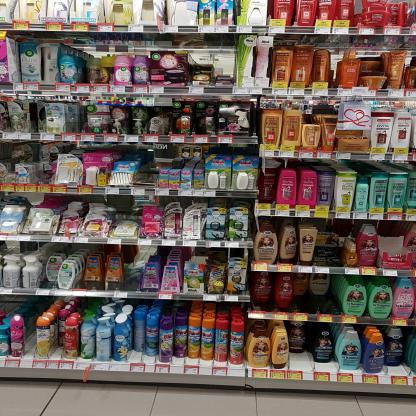Void: (24, 315, 34, 357), (290, 352, 306, 371), (126, 281, 140, 292), (141, 249, 154, 258)
